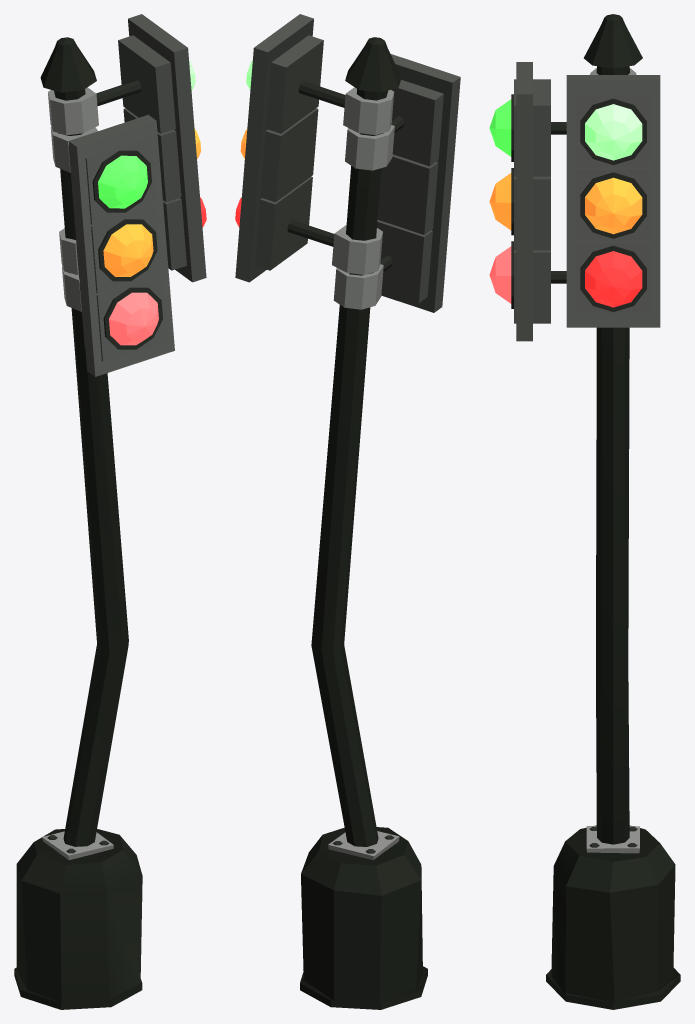
Rendered from Traffic_Light_C.glb.
3 renders of one model, left to right at view 1: azimuth 30°, elevation 25°; view 2: azimuth 150°, elevation 25°; view 3: azimuth 270°, elevation 25°, orthographic.
Visible parts, largest first — view 1: TrafficLight_C; view 2: TrafficLight_C; view 3: TrafficLight_C.
Part boxes in pixels (x1,y1,x2,y2): TrafficLight_C: [14, 14, 206, 1009]; TrafficLight_C: [235, 14, 460, 1009]; TrafficLight_C: [489, 14, 680, 1009].
Size of what is drawn, in the model's own units: 0.9757 by 4.86 by 0.8752.
Materials: 1 (1 with a texture image).
